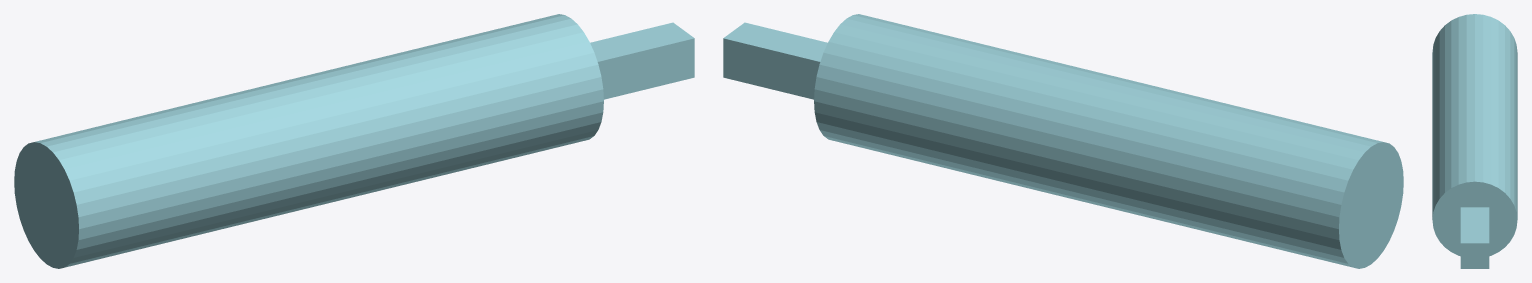
Rendered from primitive_thick_marker.obj.
3 renders of one model, left to right at view 1: azimuth 30°, elevation 25°; view 2: azimuth 150°, elevation 25°; view 3: azimuth 270°, elevation 25°, orthographic. The views are drawn at different scales.
Bounding box in the file's own units: 0.17 × 0.03 × 0.03.
1 material, 1 textured.
